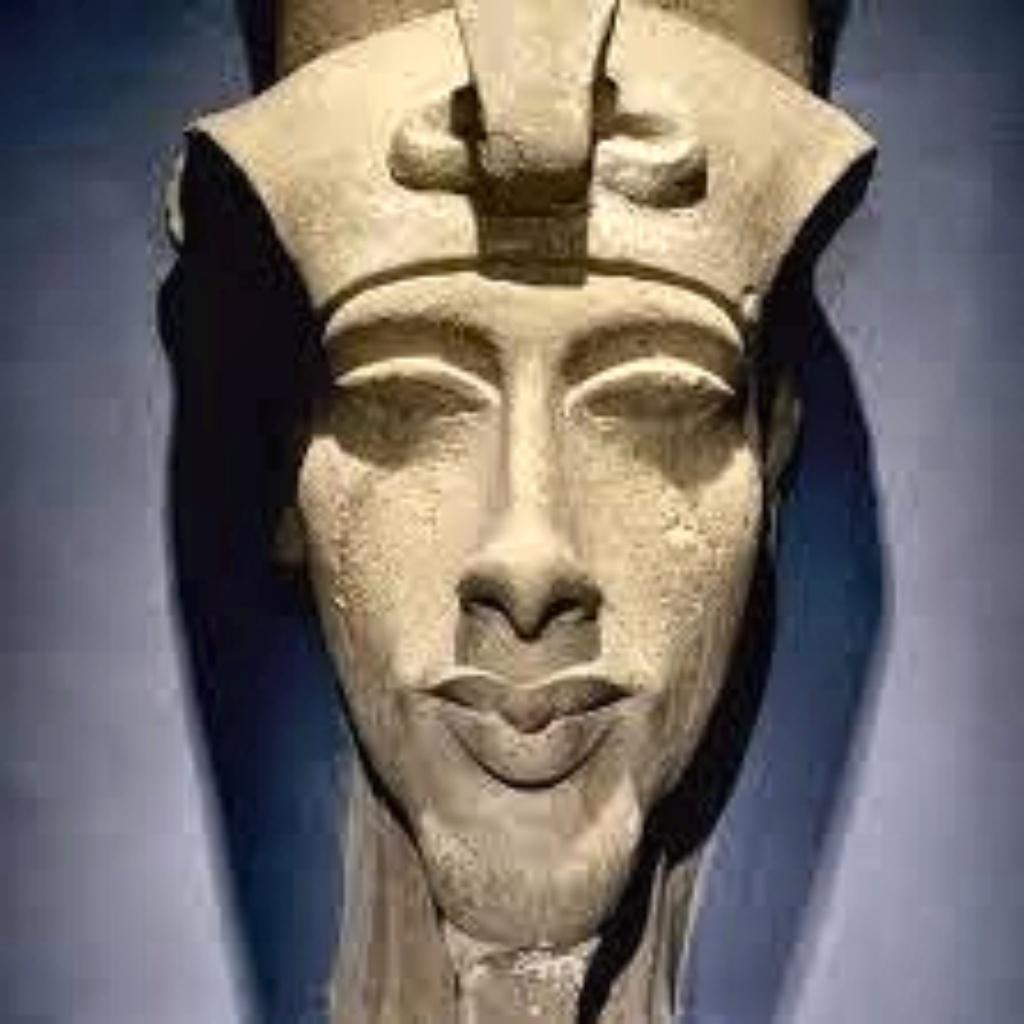Akhenaten: (147, 0, 895, 1019)
